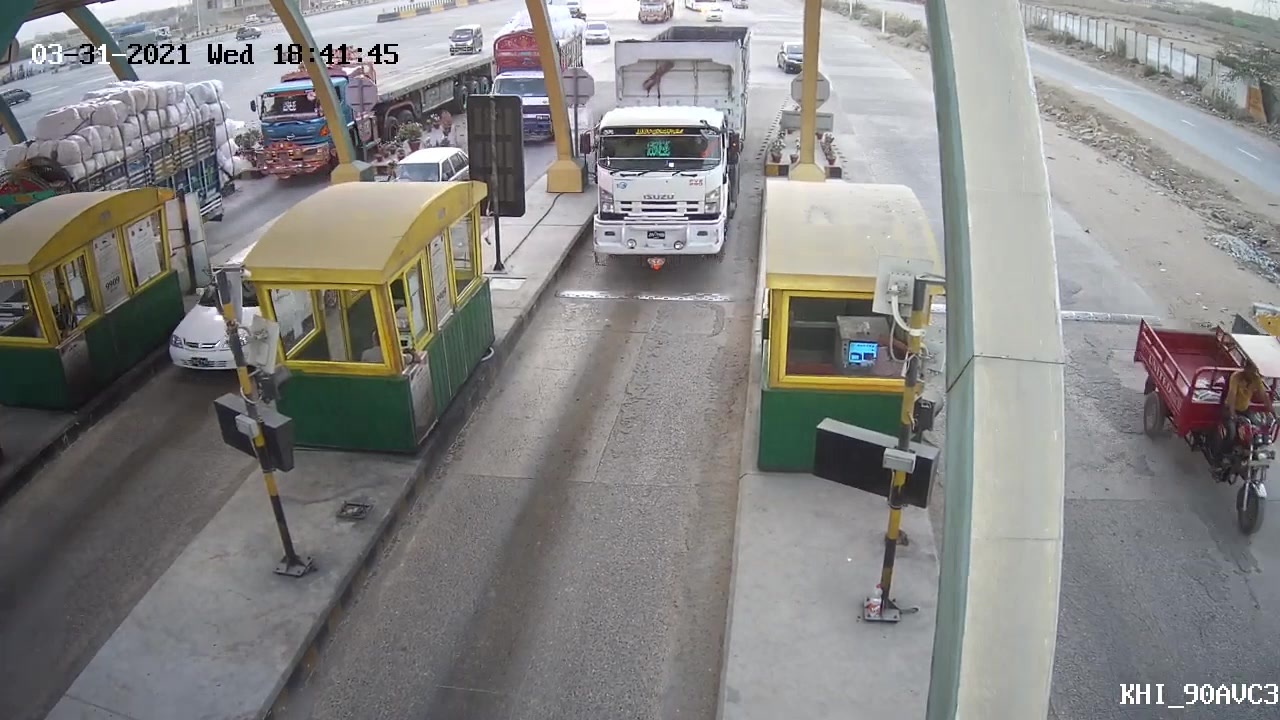F6: (581, 18, 758, 280)
